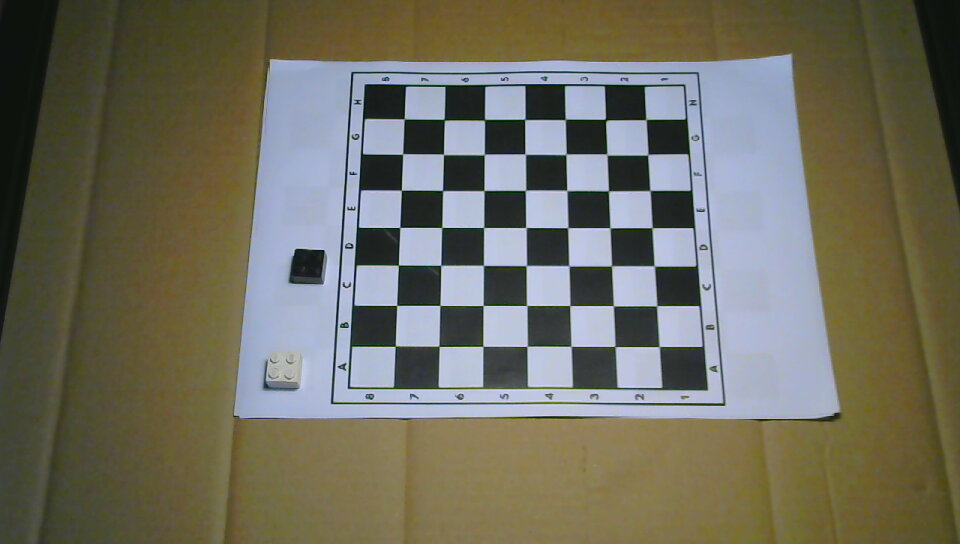bp: (290, 247, 327, 285)
wp: (265, 349, 303, 389)
